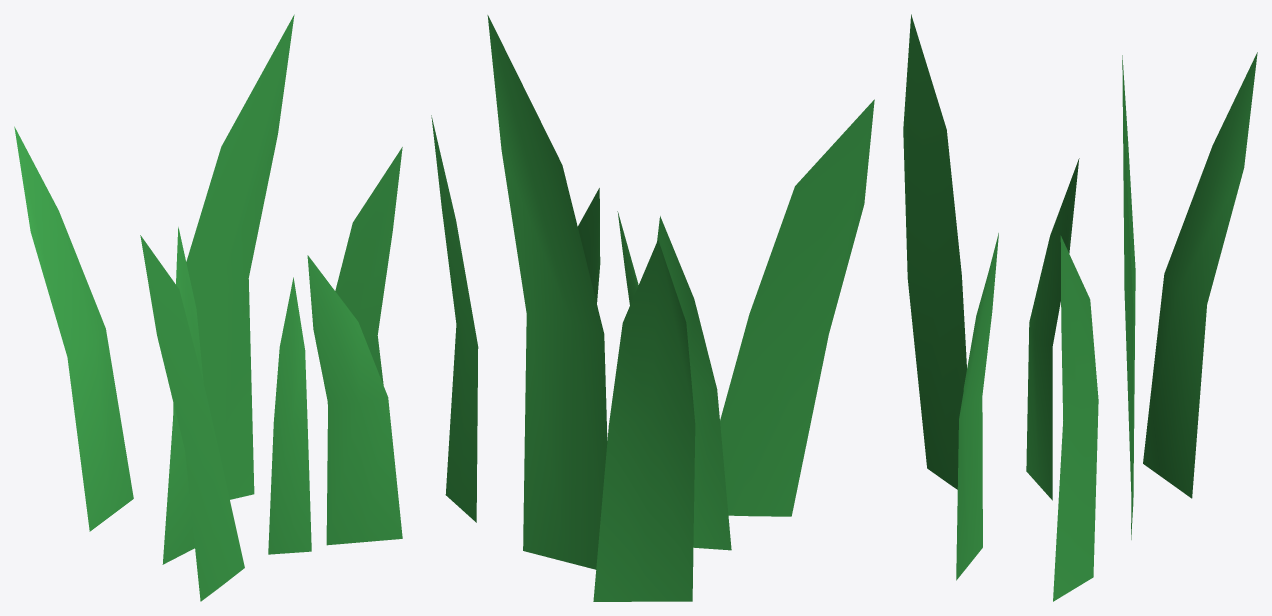
Rendered from Grama_01.fbx.
The picture shows the model from 3 angles, left to right: view 1: azimuth 30°, elevation 25°; view 2: azimuth 150°, elevation 25°; view 3: azimuth 270°, elevation 25°; orthographic projection. The views are drawn at different scales.
Visible parts, largest first — view 1: Plane.004; view 2: Plane.004; view 3: Plane.004.
Part boxes in pixels (x1,y1,x2,y2): Plane.004: (14,14,402,601); Plane.004: (431,15,874,601); Plane.004: (903,14,1257,601).
Bounding box in the file's own units: 46.3 × 63.62 × 39.79.
